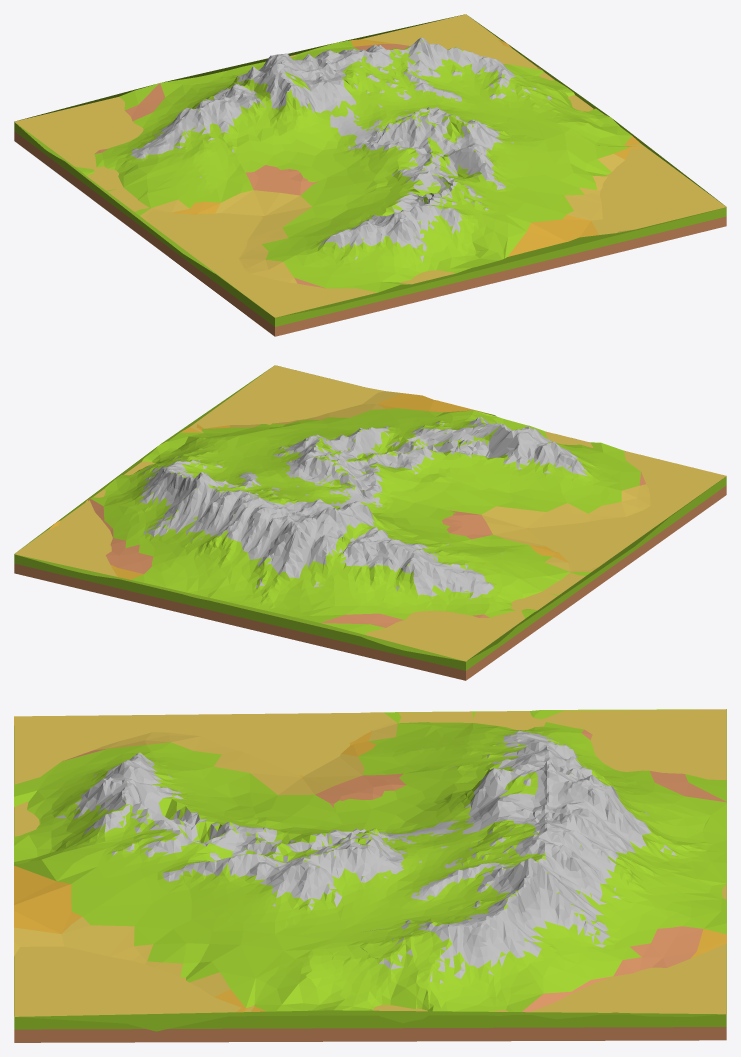
The model's file is mapaaa.fbx.
The picture shows the model from 3 angles, top to bottom: view 1: azimuth 30°, elevation 25°; view 2: azimuth 150°, elevation 25°; view 3: azimuth 270°, elevation 25°; orthographic projection. The views are drawn at different scales.
Visible parts, largest first — view 1: Cube; view 2: Cube; view 3: Cube.
Boxes of the visible parts, x1,y1,x2,y2 form: Cube: [14, 14, 726, 336]; Cube: [14, 365, 726, 680]; Cube: [14, 709, 726, 1042].
Bounding box in the file's own units: 674 × 117 × 674.
